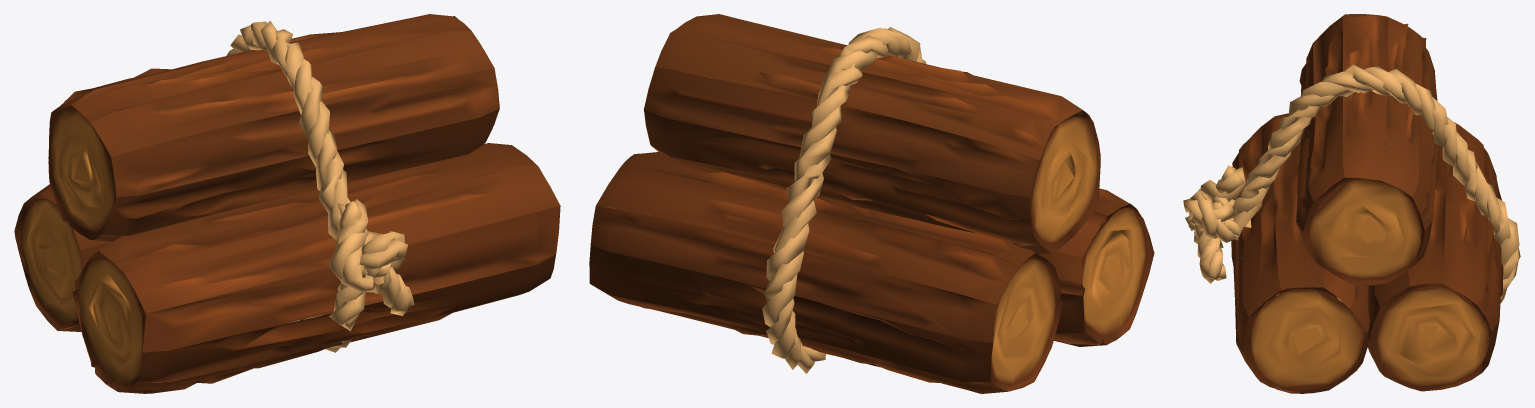
Rendered from starter_ground_wood_lod.glb.
The picture shows the model from 3 angles, left to right: view 1: azimuth 30°, elevation 25°; view 2: azimuth 150°, elevation 25°; view 3: azimuth 270°, elevation 25°; orthographic projection. The views are drawn at different scales.
Visible parts, largest first — view 1: Pickup LOD - Lower log | knot side, Pickup LOD - Crown log, Pickup LOD - Lower log | far side, Pickup LOD - One flax lashing | continuous perimeter, Pickup LOD - Hitch | left tail, Pickup LOD - Hitch | right tail; view 2: Pickup LOD - Lower log | far side, Pickup LOD - Crown log, Pickup LOD - One flax lashing | continuous perimeter, Pickup LOD - Lower log | knot side; view 3: Pickup LOD - Crown log, Pickup LOD - Lower log | knot side, Pickup LOD - Lower log | far side, Pickup LOD - One flax lashing | continuous perimeter, Pickup LOD - Hitch | right tail, Pickup LOD - Hitch | left tail.
Part boxes in pixels (box(x1,y1,x2,y2)): Pickup LOD - Lower log | knot side: box(72, 143, 560, 393); Pickup LOD - Crown log: box(48, 14, 499, 242); Pickup LOD - Lower log | far side: box(14, 125, 463, 331); Pickup LOD - One flax lashing | continuous perimeter: box(226, 20, 351, 352); Pickup LOD - Hitch | left tail: box(328, 199, 393, 331); Pickup LOD - Hitch | right tail: box(359, 231, 414, 315); Pickup LOD - Lower log | far side: box(589, 152, 1062, 393); Pickup LOD - Crown log: box(644, 14, 1100, 254); Pickup LOD - One flax lashing | continuous perimeter: box(762, 27, 926, 374); Pickup LOD - Lower log | knot side: box(919, 173, 1154, 346); Pickup LOD - Crown log: box(1296, 14, 1437, 285); Pickup LOD - Lower log | knot side: box(1231, 113, 1369, 393); Pickup LOD - Lower log | far side: box(1365, 122, 1503, 391); Pickup LOD - One flax lashing | continuous perimeter: box(1232, 64, 1520, 306); Pickup LOD - Hitch | right tail: box(1183, 190, 1241, 283); Pickup LOD - Hitch | left tail: box(1185, 165, 1246, 248).
Size of the model in its own units: 0.3099 by 0.206 by 0.2445.
